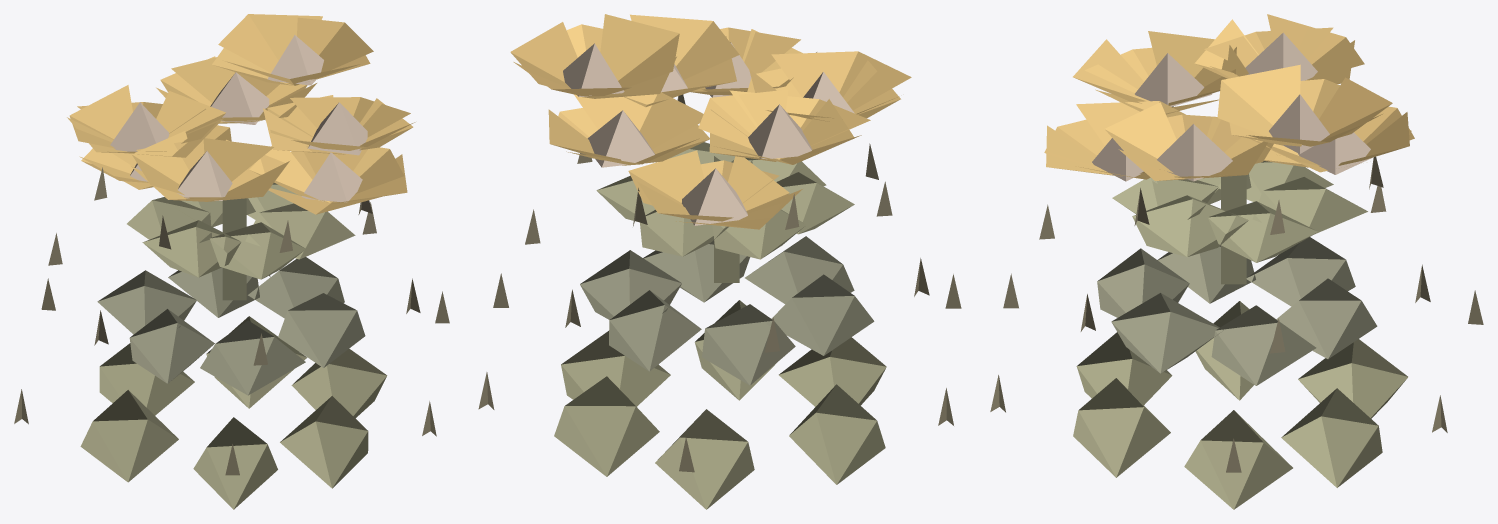
File: cao.shamo@flowering__winter.glb
3 views of the same model, side by side, from view 1: azimuth 30°, elevation 25°; view 2: azimuth 150°, elevation 25°; view 3: azimuth 270°, elevation 25° (orthographic). The views are drawn at different scales.
Visible parts, largest first — view 1: cao.shamo@flowering__winter; view 2: cao.shamo@flowering__winter; view 3: cao.shamo@flowering__winter.
Boxes of the visible parts, x1=… form: cao.shamo@flowering__winter: x1=14, y1=14, x2=449, y2=509; cao.shamo@flowering__winter: x1=478, y1=14, x2=961, y2=509; cao.shamo@flowering__winter: x1=990, y1=14, x2=1483, y2=509.
Size of the model in its own units: 1.8 by 1.52 by 1.66.
